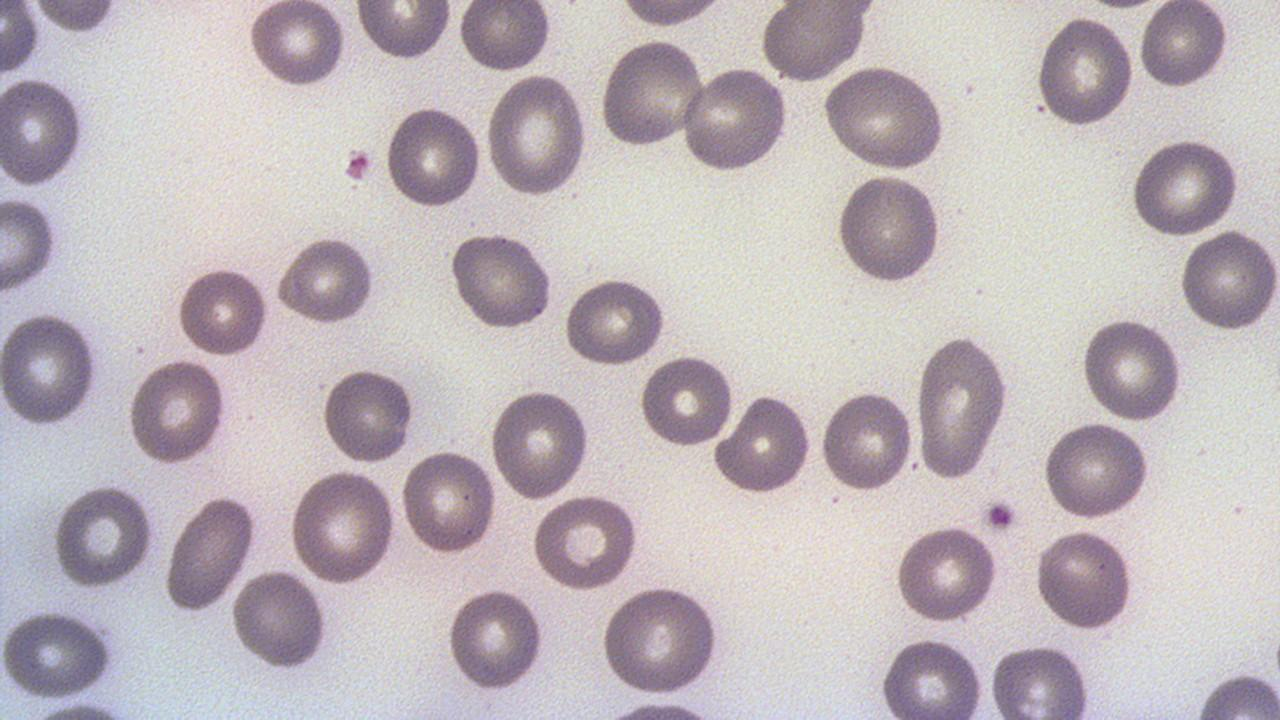RBC: (913, 332, 1012, 482), (598, 582, 726, 696), (483, 72, 590, 199), (821, 65, 948, 171), (286, 466, 398, 586), (832, 172, 946, 287), (598, 35, 706, 148), (490, 386, 594, 502), (0, 309, 99, 430), (682, 65, 791, 174), (162, 490, 256, 616), (1129, 135, 1243, 238), (1035, 14, 1135, 131), (1031, 525, 1139, 633), (1078, 314, 1184, 424), (1040, 419, 1152, 522), (530, 490, 642, 592), (126, 356, 229, 466), (52, 481, 154, 591), (446, 230, 556, 332), (444, 584, 547, 692), (893, 522, 1002, 624), (713, 390, 816, 496), (1177, 227, 1279, 334), (383, 103, 484, 211), (2, 608, 118, 700), (400, 448, 498, 556), (230, 568, 328, 673), (819, 387, 915, 494), (562, 273, 670, 367), (1, 74, 85, 190), (320, 364, 416, 465), (760, 1, 876, 83), (276, 234, 380, 325), (878, 633, 988, 718), (637, 352, 734, 448), (175, 264, 271, 359), (248, 0, 348, 90), (1137, 0, 1229, 93), (986, 641, 1094, 716), (458, 2, 552, 73), (1, 194, 59, 298), (353, 3, 452, 61), (1194, 669, 1280, 717), (616, 0, 726, 30), (29, 1, 121, 34), (0, 2, 40, 74)
